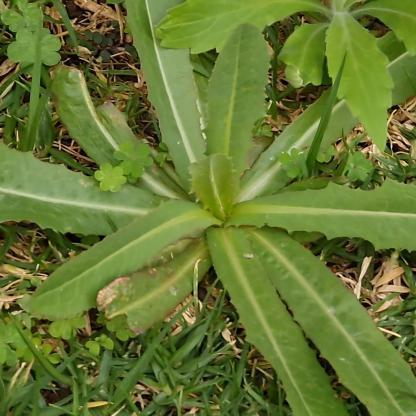Weeds: (3, 4, 415, 415), (151, 0, 415, 154)
